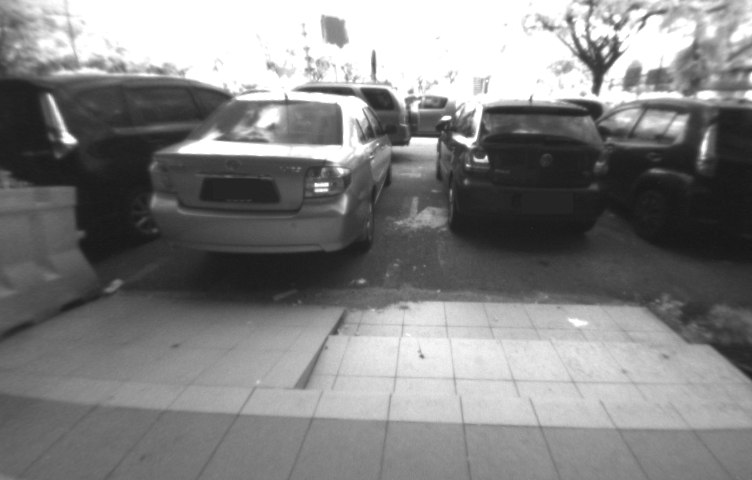down_steps: (301, 292, 748, 409)
mixed_gradient: (252, 293, 390, 406)
